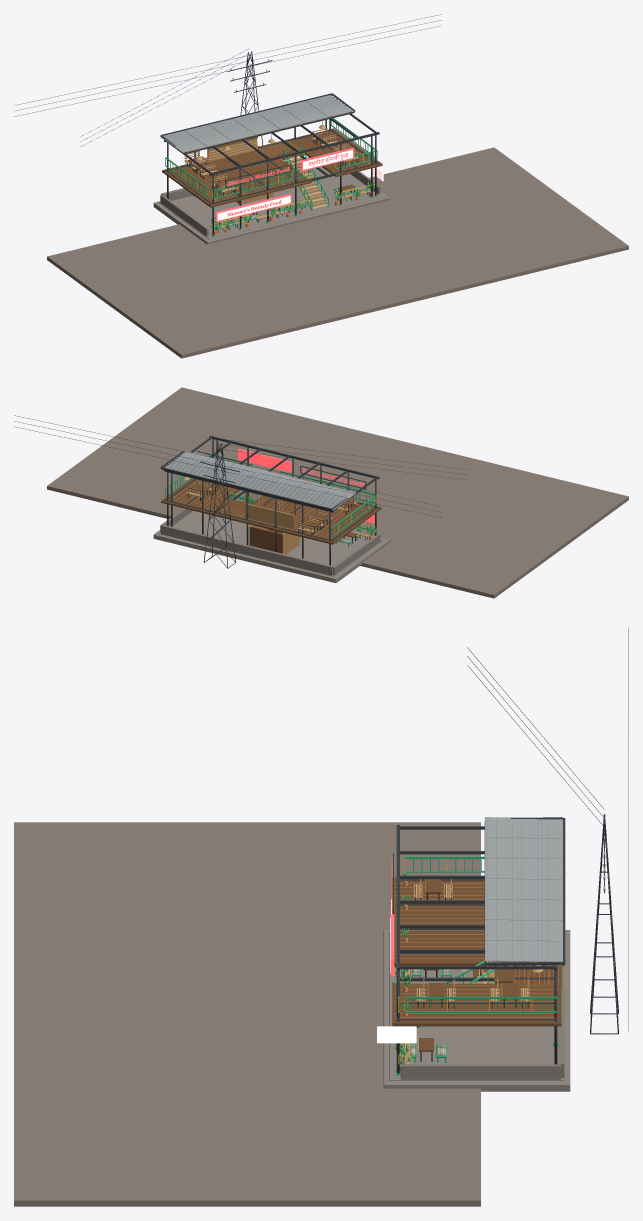
The model's file is mummys_homely_food.glb.
3 renders of one model, top to bottom at view 1: azimuth 30°, elevation 25°; view 2: azimuth 150°, elevation 25°; view 3: azimuth 270°, elevation 25°, orthographic. The views are drawn at different scales.
Parts seen in each view (by area): view 1: Gravel forecourt, Ground floor slab, First floor deck — left wing, First floor deck — right wing, Restaurant concrete foundation, Upper floor wooden partition base, Front longitudinal steel beam.001, Ground sign inner white panel, Galvanized corrugated roof panel.002, Galvanized corrugated roof panel.004, Galvanized corrugated roof panel.006, Galvanized corrugated roof panel.001 (+4 smaller); view 2: Gravel forecourt, Ground floor slab, First floor deck — left wing, Rear low stone wall, Restaurant concrete foundation, First floor deck — right wing, Upper floor wooden partition base, Ground kitchen rear wood panel, Hindi sign red border, Galvanized corrugated roof panel.001, Galvanized corrugated roof panel.003, Galvanized corrugated roof panel.006 (+13 smaller); view 3: Gravel forecourt, Ground floor slab, First floor deck — left wing, First floor deck — right wing, Restaurant concrete foundation, Low side wall.001, Galvanized corrugated roof panel.006, Galvanized corrugated roof panel.004, Galvanized corrugated roof panel.002, Galvanized corrugated roof panel.005, Galvanized corrugated roof panel.003, Galvanized corrugated roof panel.001 (+1 smaller).
Boxes of the visible parts, bbox=[...] form: Gravel forecourt: bbox=[47, 147, 628, 358]; Ground floor slab: bbox=[159, 166, 383, 239]; First floor deck — left wing: bbox=[162, 148, 311, 207]; First floor deck — right wing: bbox=[288, 128, 382, 176]; Restaurant concrete foundation: bbox=[153, 191, 389, 244]; Upper floor wooden partition base: bbox=[207, 137, 257, 162]; Front longitudinal steel beam.001: bbox=[209, 132, 379, 175]; Ground sign inner white panel: bbox=[217, 196, 290, 220]; Galvanized corrugated roof panel.002: bbox=[209, 119, 254, 140]; Galvanized corrugated roof panel.004: bbox=[258, 107, 303, 128]; Galvanized corrugated roof panel.006: bbox=[306, 95, 352, 117]; Galvanized corrugated roof panel.001: bbox=[185, 125, 230, 146]; Gravel forecourt: bbox=[47, 387, 628, 598]; Ground floor slab: bbox=[159, 510, 384, 576]; First floor deck — left wing: bbox=[232, 495, 381, 544]; Rear low stone wall: bbox=[161, 524, 333, 575]; Restaurant concrete foundation: bbox=[153, 530, 389, 582]; First floor deck — right wing: bbox=[161, 478, 239, 513]; Upper floor wooden partition base: bbox=[245, 503, 294, 529]; Ground kitchen rear wood panel: bbox=[249, 526, 282, 553]; Hindi sign red border: bbox=[238, 449, 291, 472]; Galvanized corrugated roof panel.001: bbox=[286, 481, 331, 503]; Galvanized corrugated roof panel.003: bbox=[238, 469, 282, 491]; Galvanized corrugated roof panel.006: bbox=[165, 451, 210, 473]; Gravel forecourt: bbox=[14, 822, 480, 1206]; Ground floor slab: bbox=[389, 932, 564, 1080]; First floor deck — left wing: bbox=[392, 877, 492, 966]; First floor deck — right wing: bbox=[392, 983, 561, 1026]; Restaurant concrete foundation: bbox=[383, 930, 570, 1091]; Low side wall.001: bbox=[400, 1064, 561, 1079]; Galvanized corrugated roof panel.006: bbox=[485, 940, 562, 962]; Galvanized corrugated roof panel.004: bbox=[485, 899, 562, 920]; Galvanized corrugated roof panel.002: bbox=[485, 858, 562, 879]; Galvanized corrugated roof panel.005: bbox=[485, 920, 562, 941]; Galvanized corrugated roof panel.003: bbox=[485, 878, 562, 900]; Galvanized corrugated roof panel.001: bbox=[485, 837, 562, 858].
Bounding box in the file's own units: 46 × 12.53 × 31.61.
